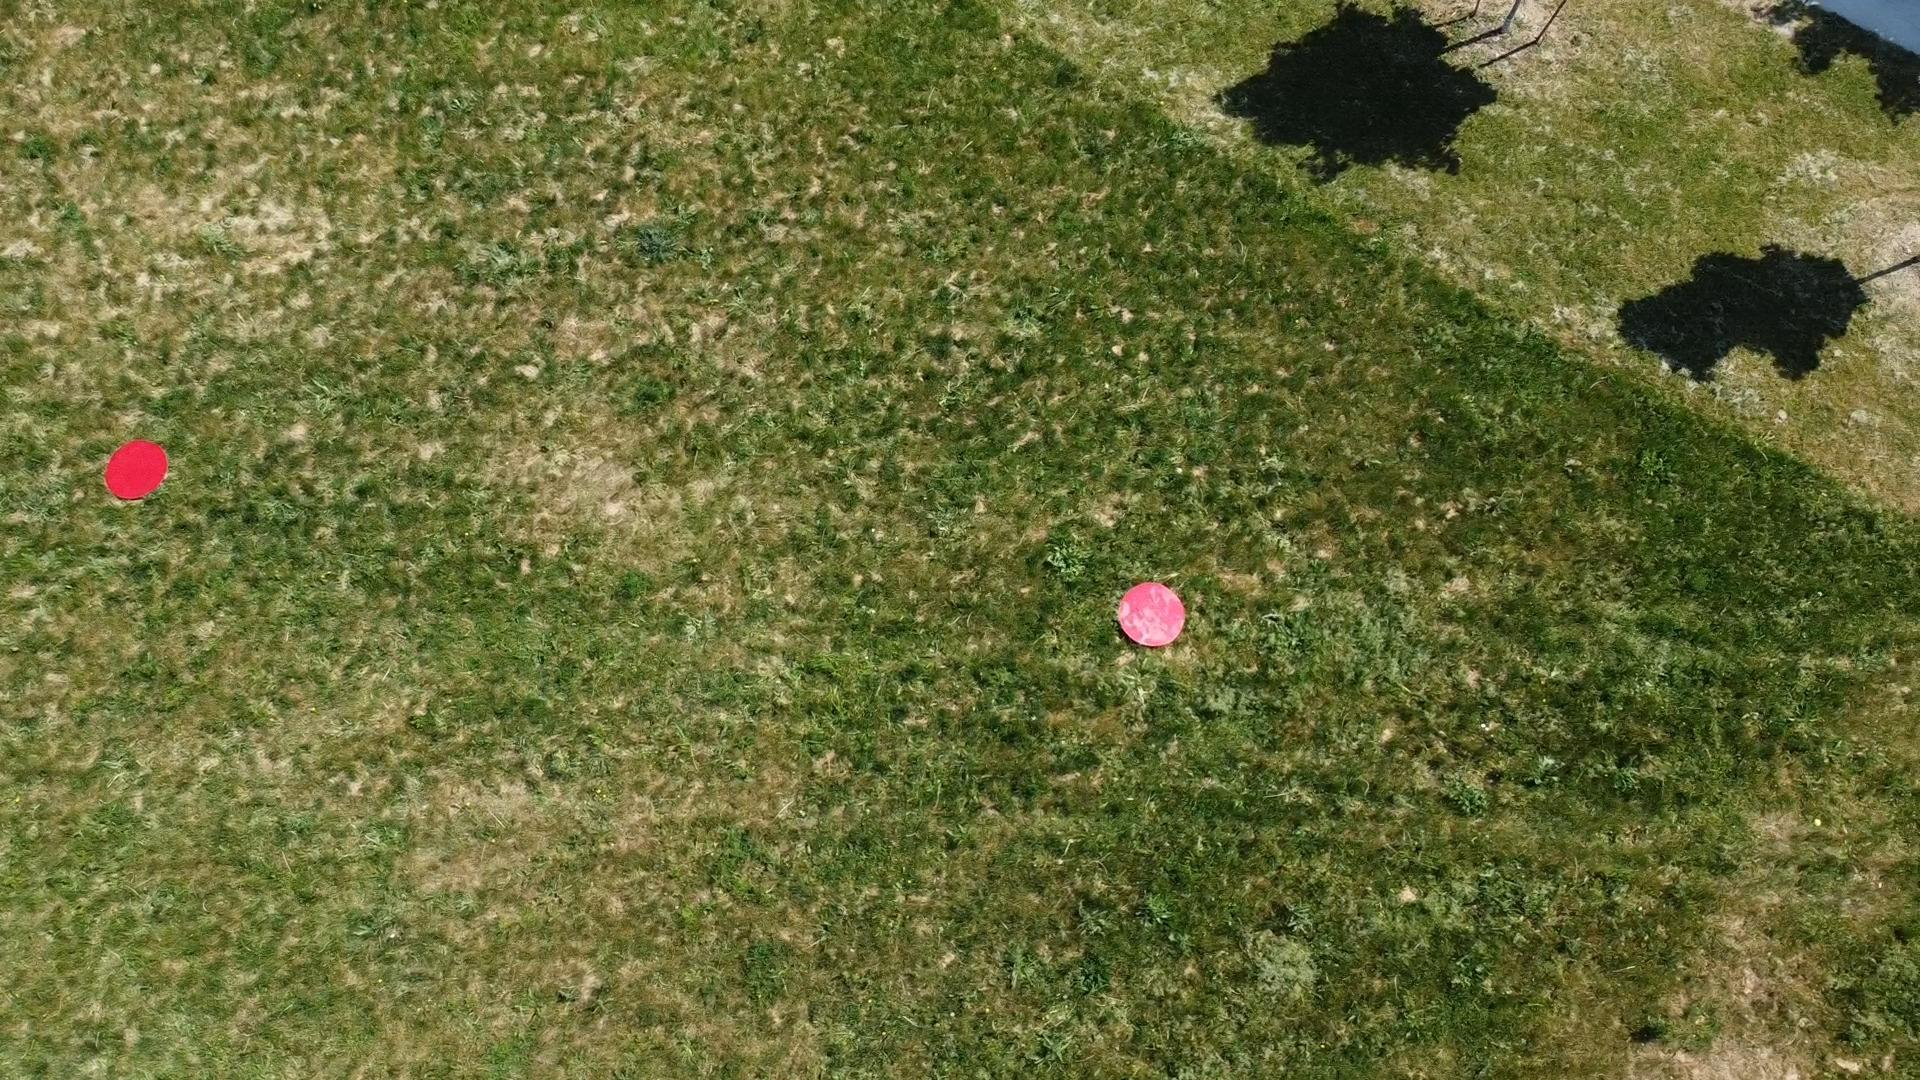Red: (1117, 579, 1188, 650), (102, 438, 173, 502)
